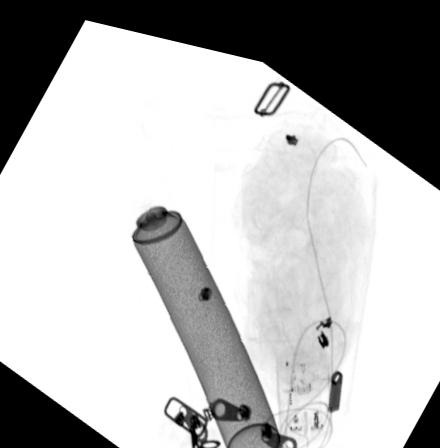Sprayer: (106, 161, 280, 448)
